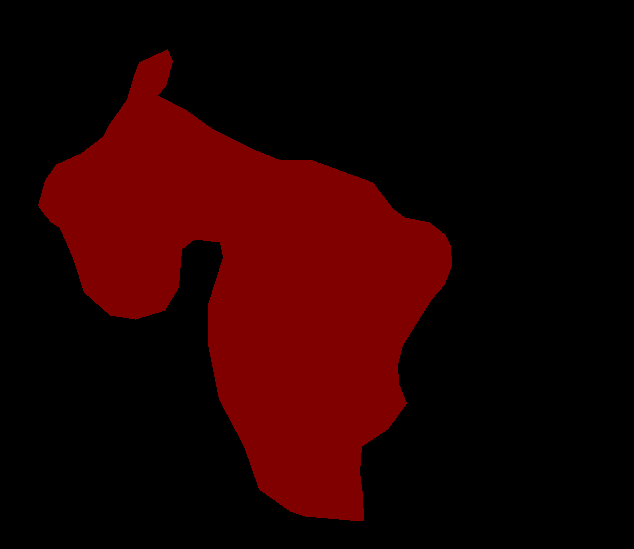fire: (38, 49, 451, 520)
